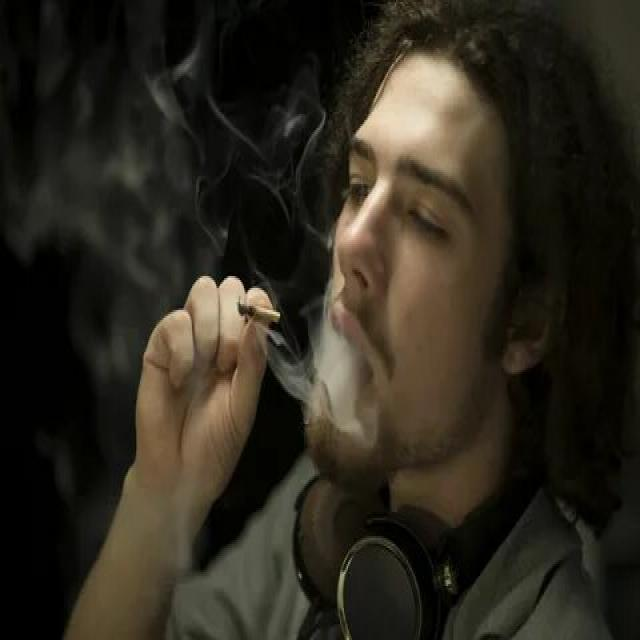smoke: (234, 294, 286, 330)
